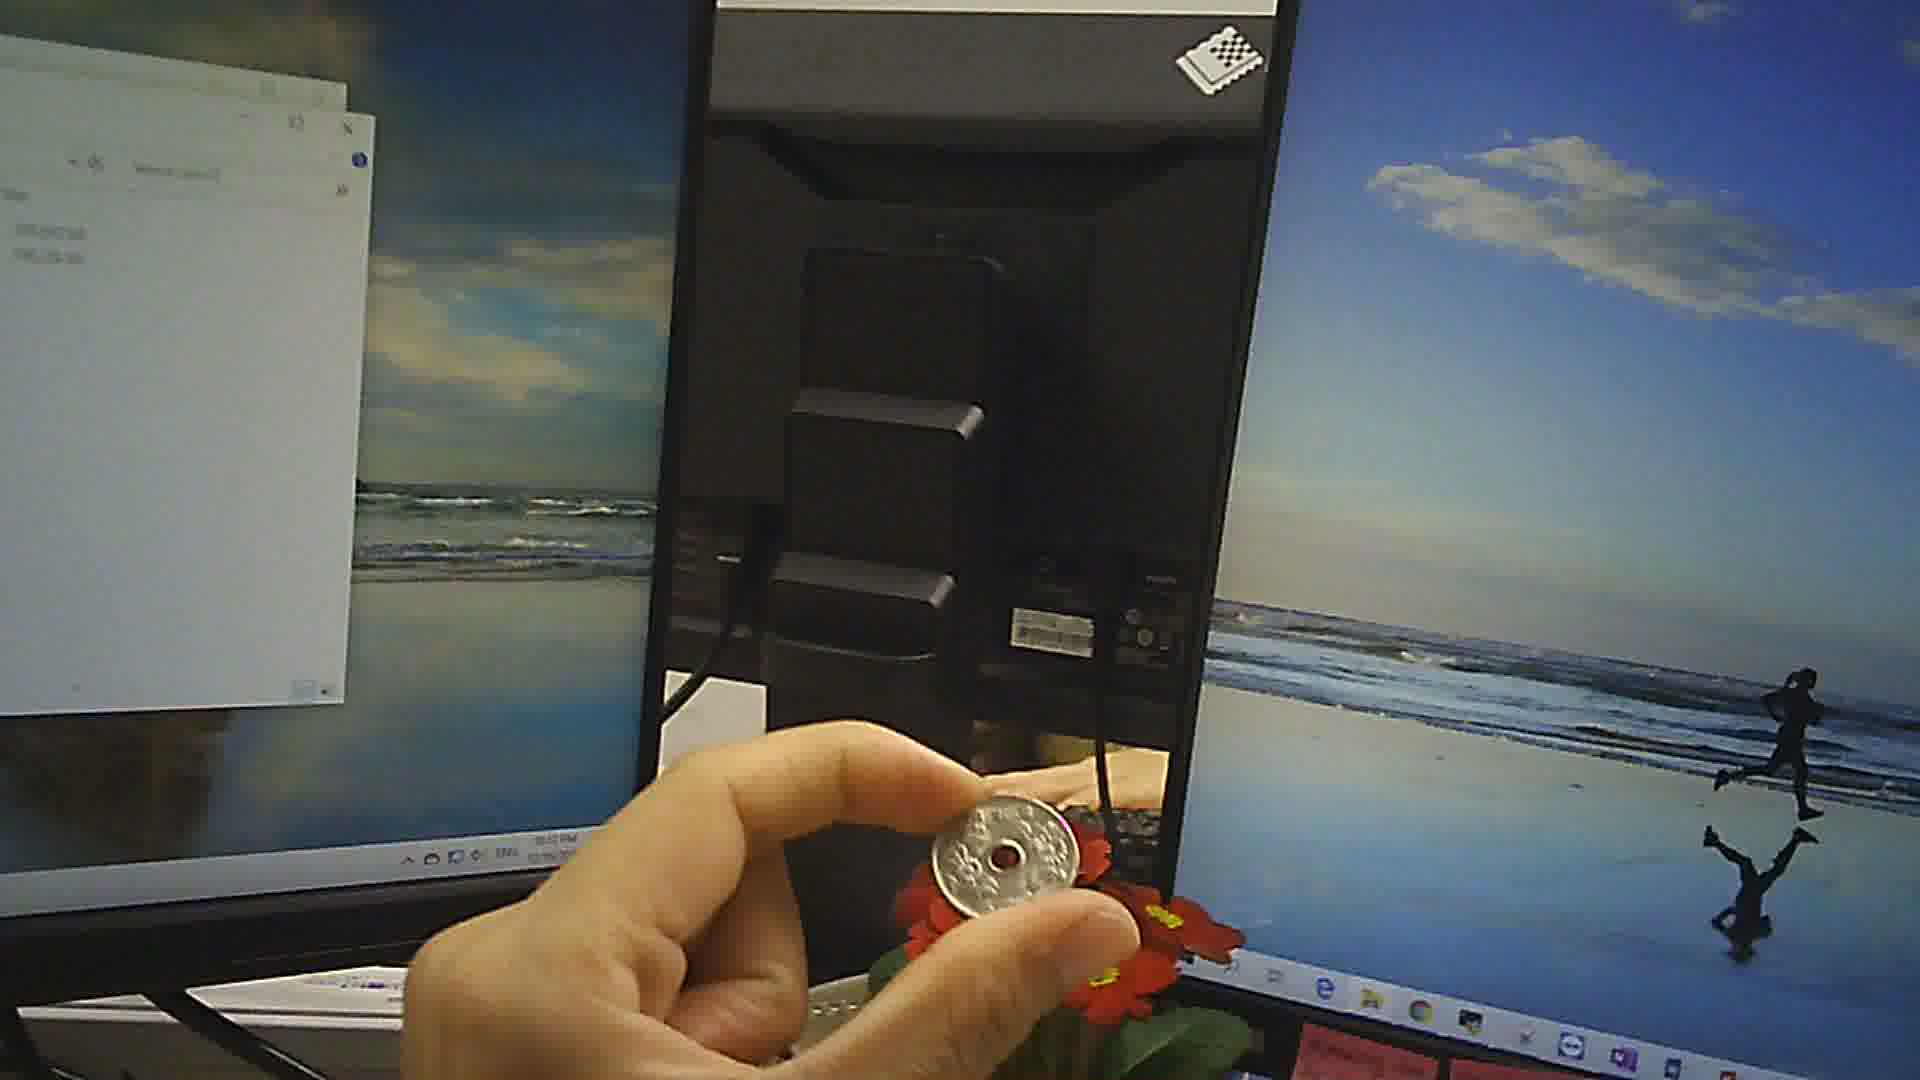50 Yen: (934, 799, 1083, 924)
